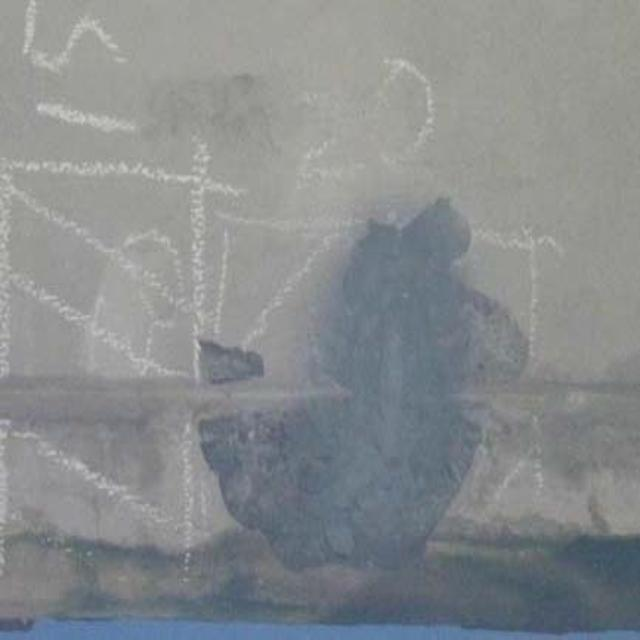spalling: (173, 190, 523, 580)
